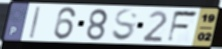2: (142, 9, 170, 43)
6: (53, 6, 77, 41)
8: (86, 8, 109, 41)
F: (165, 10, 200, 44)
I: (28, 5, 42, 40)
S: (111, 8, 140, 43)
